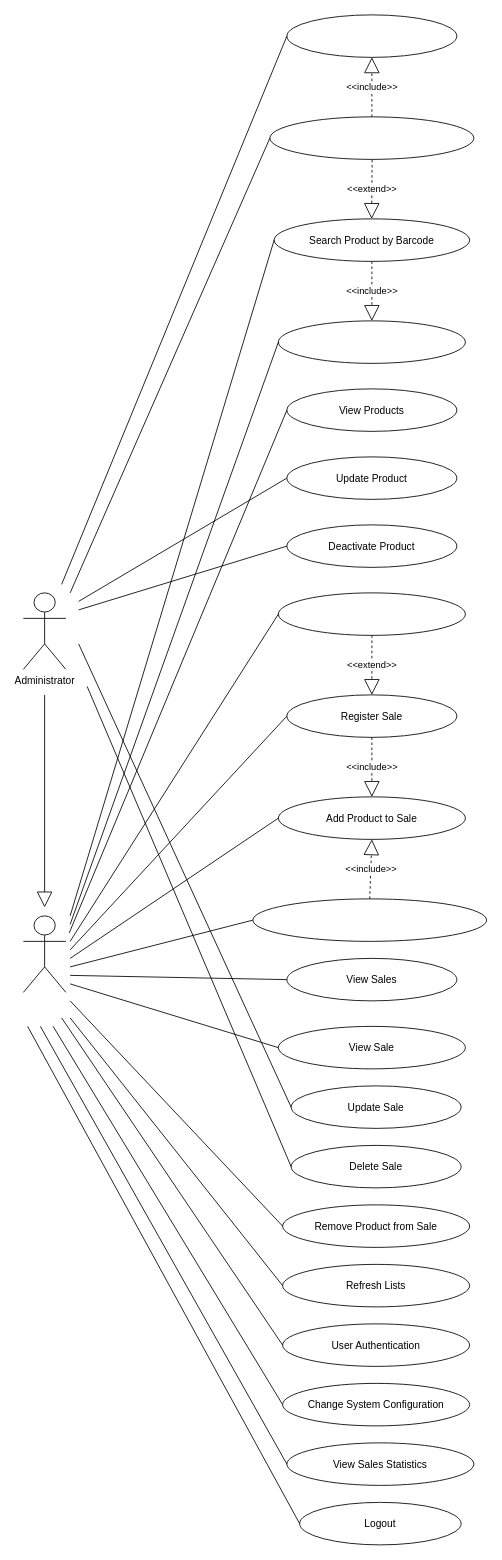
Image size: 502x1560. Some labels were removed from this diagram. The shapes that lost their labels are listed below. From the top down, each one's box as (x1, y1, x2, y2) in pixels, then its label:
(286, 14, 457, 57): Register Product
(269, 116, 474, 159): Register Product by Barcode
(278, 320, 465, 363): View Product
(278, 592, 465, 635): Generate Receipt
(252, 898, 487, 941): Add Product to Sale by Barcode
(23, 915, 66, 992): Operator
